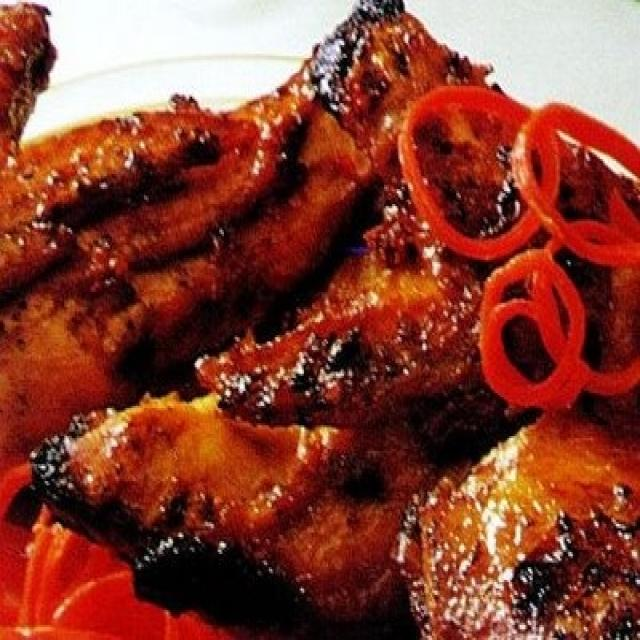鸡肉料理 含炸鸡: (27, 30, 621, 599)
